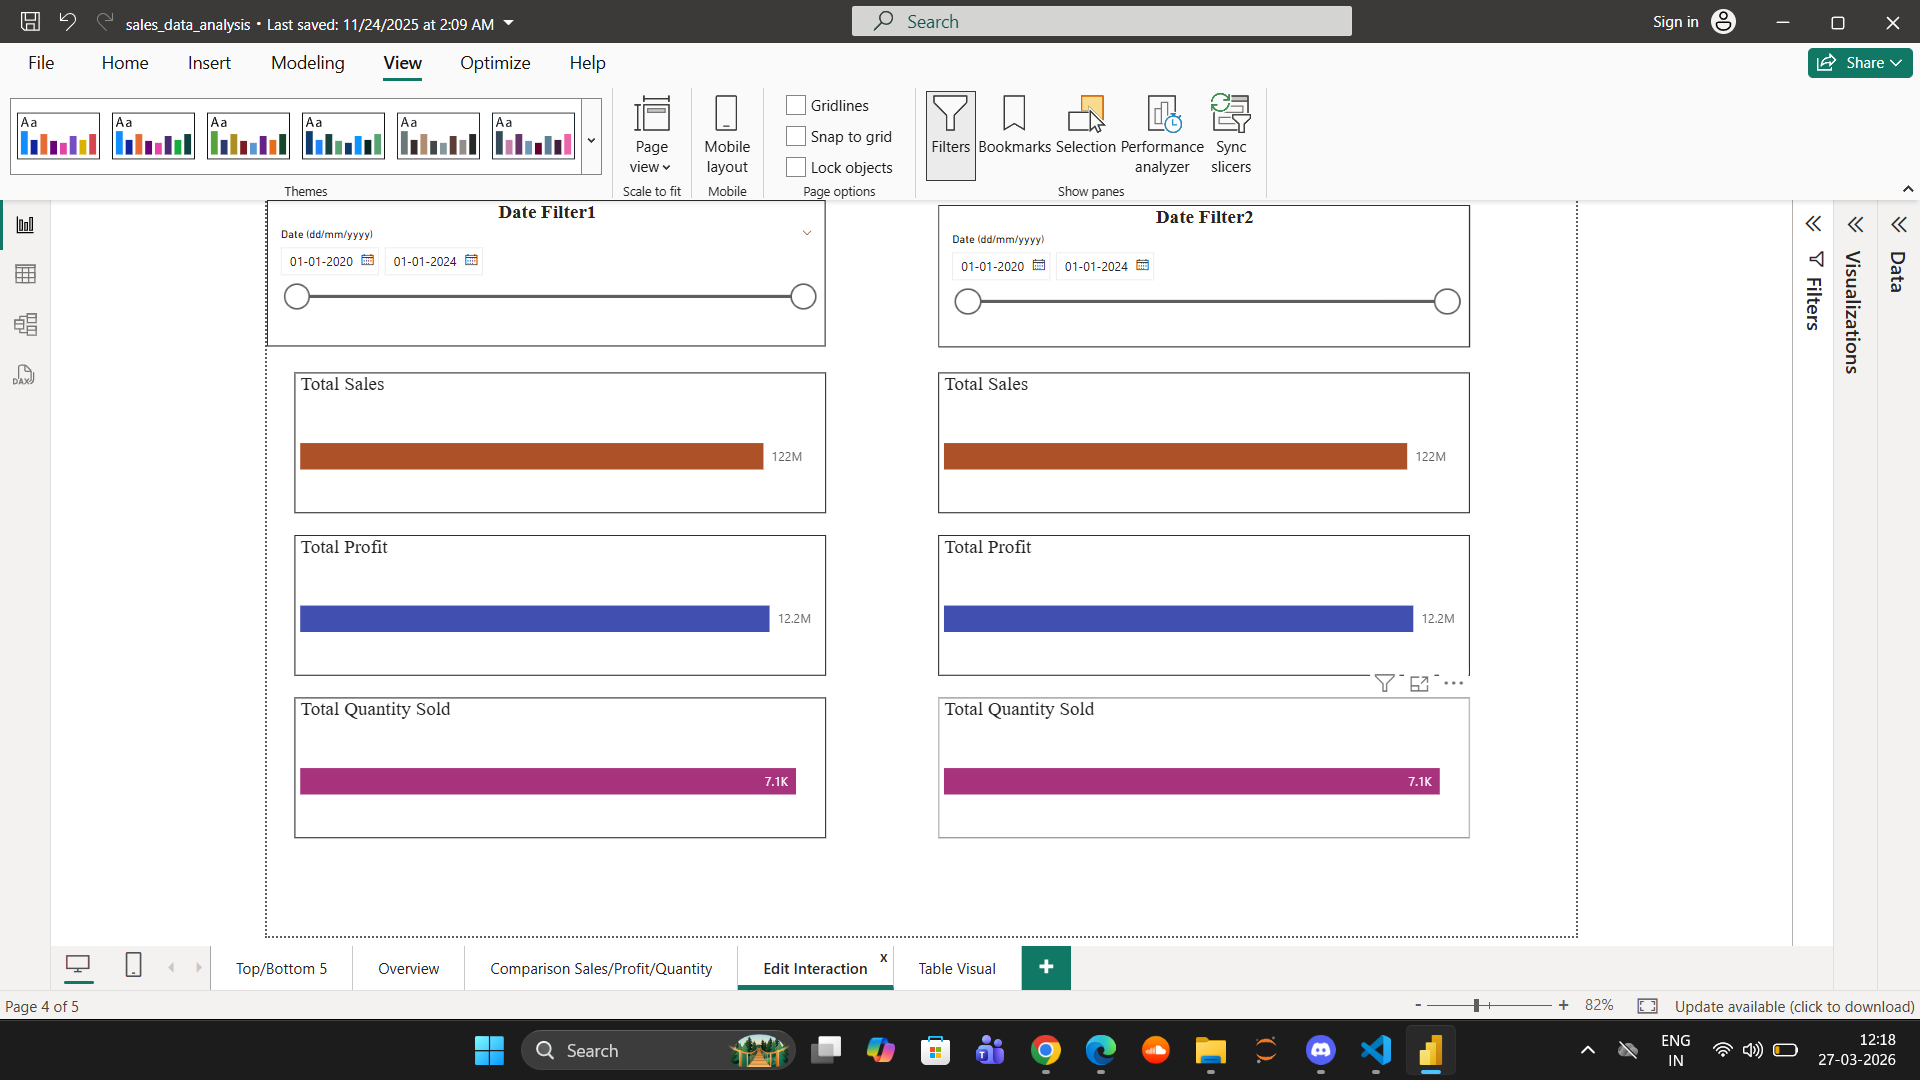

What the dashboard file says about the page in this screenshot:
{"tool":"powerbi","page":{"name":"Edit Interaction","canvas":[1280,720],"ordinal":3},"visuals":[{"type":"slicer","title":"Date Filter1","fields":{"Values":["Fact Table.Date (dd/mm/yyyy)"]},"box":[0,0,546.7,143.3],"z":0},{"type":"slicer","title":"Date Filter2","fields":{"Values":["Fact Table.Date (dd/mm/yyyy)"]},"box":[656.7,4.4,520,138.9],"z":1000},{"type":"barChart","title":"Total Sales","fields":{"Y":["Sum(Fact Table.Net Sales)"]},"box":[26.7,168.9,520,137.8],"z":2000},{"type":"barChart","title":"Total Profit","fields":{"Y":["Sum(Fact Table.Profit)"]},"box":[26.9,328.2,520,137.8],"z":3000},{"type":"barChart","title":"Total Quantity Sold","fields":{"Y":["Sum(Fact Table.Units Sold)"]},"box":[26.9,487.1,520,137.8],"z":4000},{"type":"barChart","title":"Total Sales","fields":{"Y":["Sum(Fact Table.Net Sales)"]},"box":[656.7,168.9,520,137.8],"z":5000},{"type":"barChart","title":"Total Profit","fields":{"Y":["Sum(Fact Table.Profit)"]},"box":[656.7,327.8,520,137.8],"z":6000},{"type":"barChart","title":"Total Quantity Sold","fields":{"Y":["Sum(Fact Table.Units Sold)"]},"box":[656.7,486.7,520,137.8],"z":7000}]}

Visuals, with their boxes on the page's 1280x720 design canvas (x1, y1, x2, y2). These are canvas units, not pixel positions in the 1920x1080 screenshot, which may show the page scaled, cropped or inside an application window:
"Date Filter1" slicer: Rect(0, 0, 547, 143)
"Date Filter2" slicer: Rect(657, 4, 1177, 143)
"Total Sales" barChart: Rect(27, 169, 547, 307)
"Total Profit" barChart: Rect(27, 328, 547, 466)
"Total Quantity Sold" barChart: Rect(27, 487, 547, 625)
"Total Sales" barChart: Rect(657, 169, 1177, 307)
"Total Profit" barChart: Rect(657, 328, 1177, 466)
"Total Quantity Sold" barChart: Rect(657, 487, 1177, 624)
